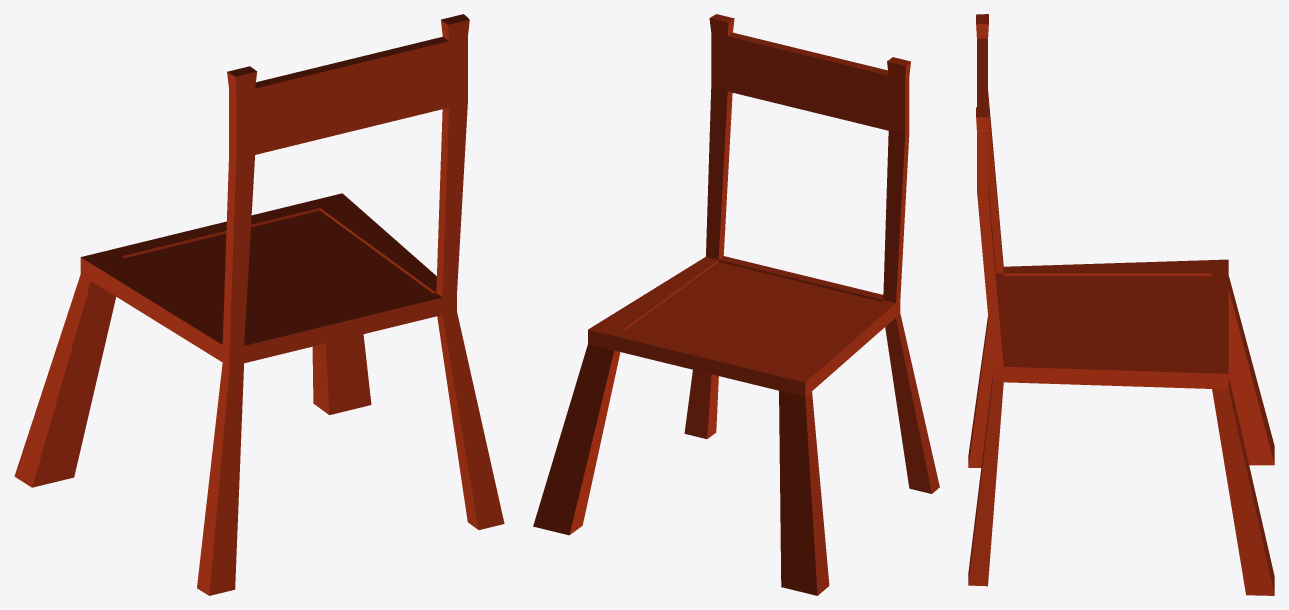
Rendered from Chair 11.fbx.
3 views of the same model, side by side, from view 1: azimuth 30°, elevation 25°; view 2: azimuth 150°, elevation 25°; view 3: azimuth 270°, elevation 25° (orthographic). The views are drawn at different scales.
Visible parts, largest first — view 1: Node 0; view 2: Node 0; view 3: Node 0.
Boxes of the visible parts, box(x1,y1,x2,y2) form: Node 0: box(14, 14, 504, 595); Node 0: box(533, 14, 939, 595); Node 0: box(968, 14, 1274, 595).
Size of the model in its own units: 0.6594 by 1.08 by 0.7623.
